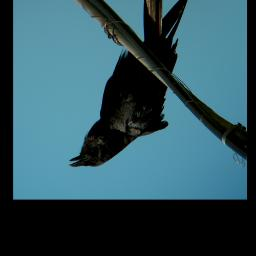Crow: (68, 0, 190, 170)
